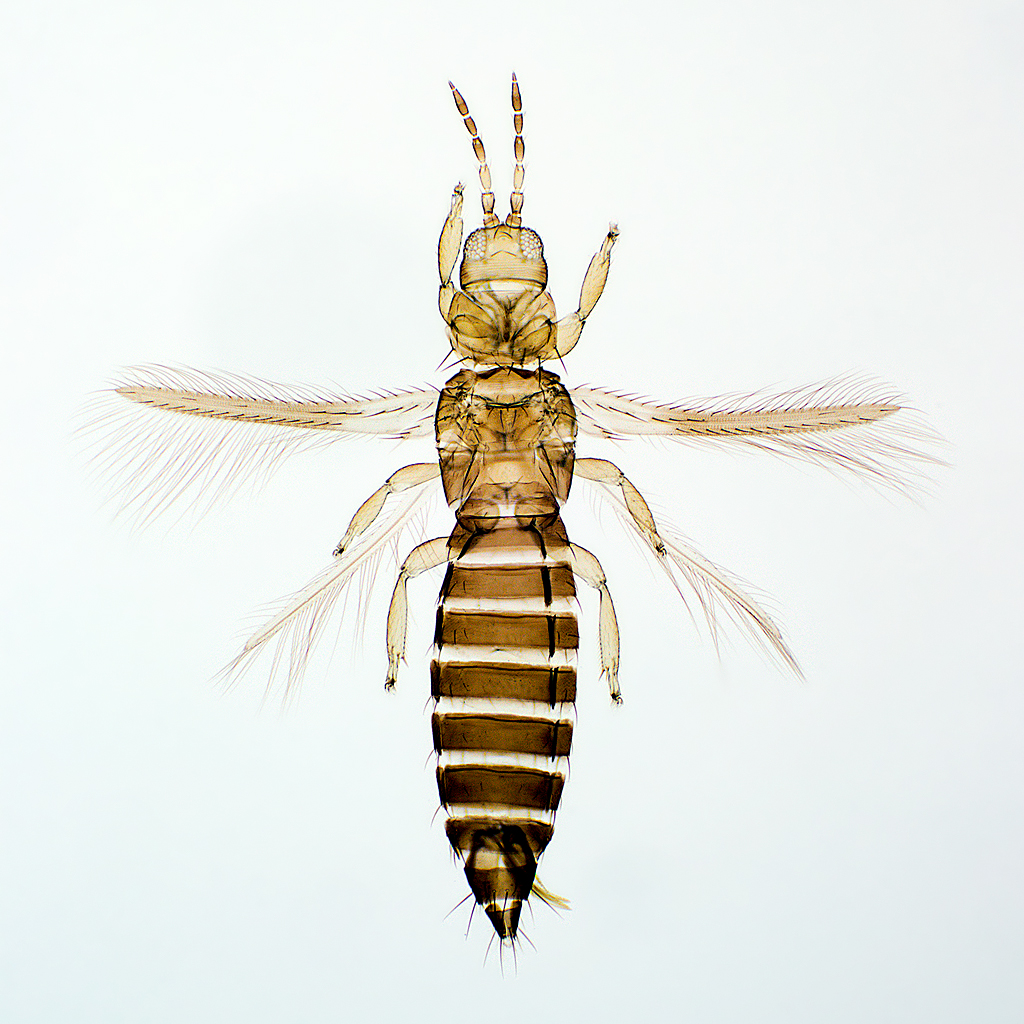Thrips: (147, 96, 913, 1014)
